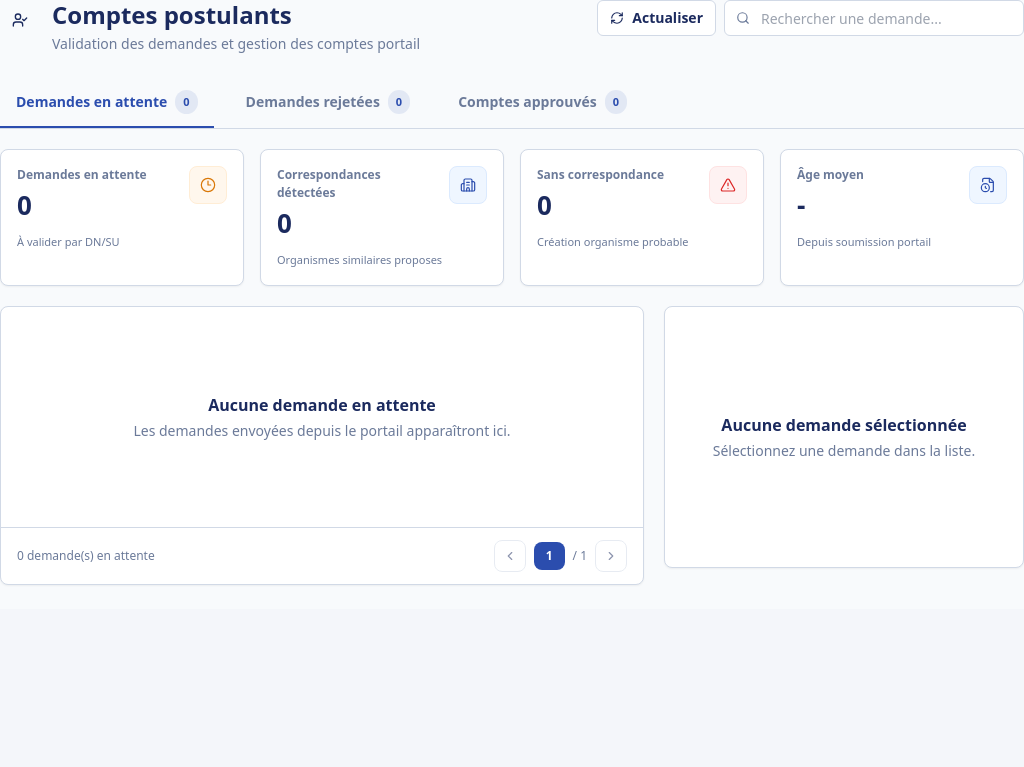
<AccountRequestsPage> password reset (ACCOUNT-V2) › disabled on a suspended account
What coordinates should you click on to do the following:
click the button "Comptes approuvés 0"
I would click on:
 (543, 103)
Its box is [442, 78, 643, 128].
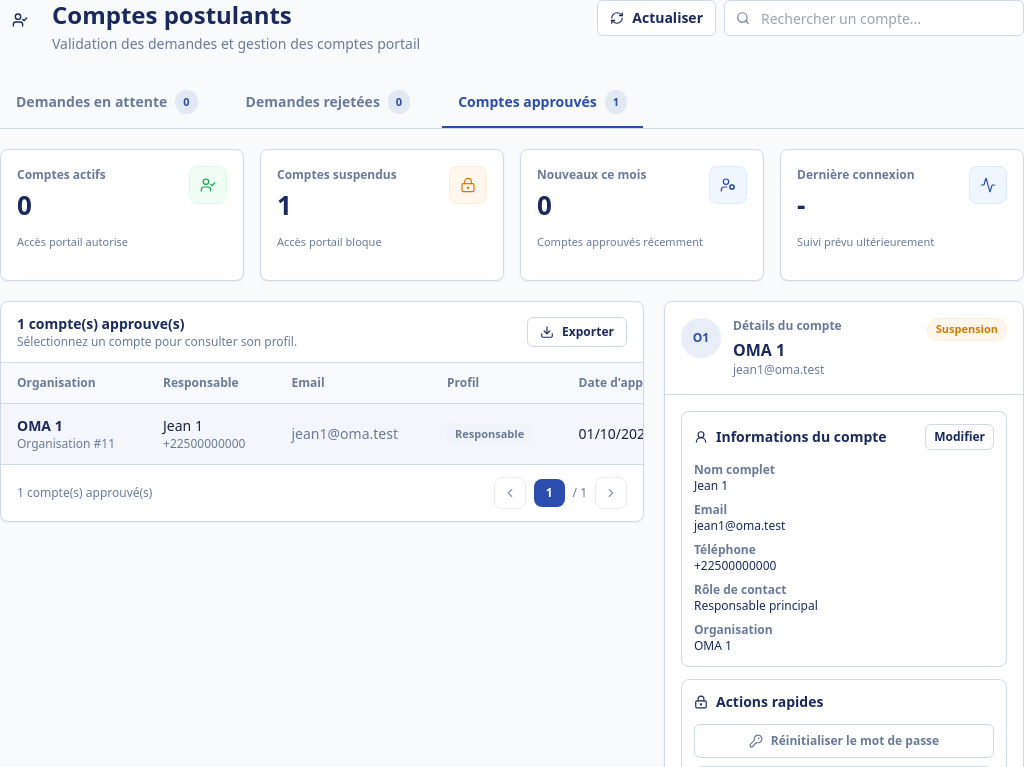
expect the button "Réinitialiser le mot de passe" is disabled: met, box [694, 724, 994, 758]
